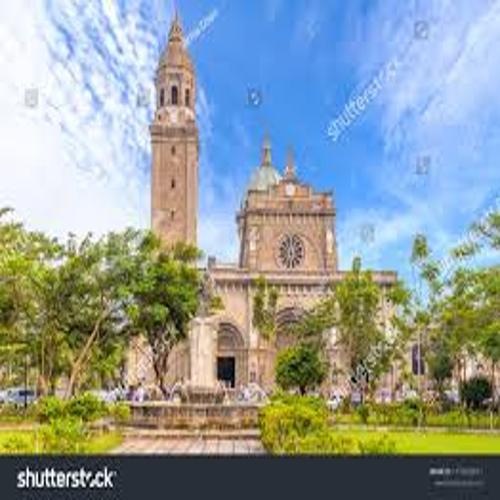Manila Cathedral Church: (83, 9, 417, 411)
